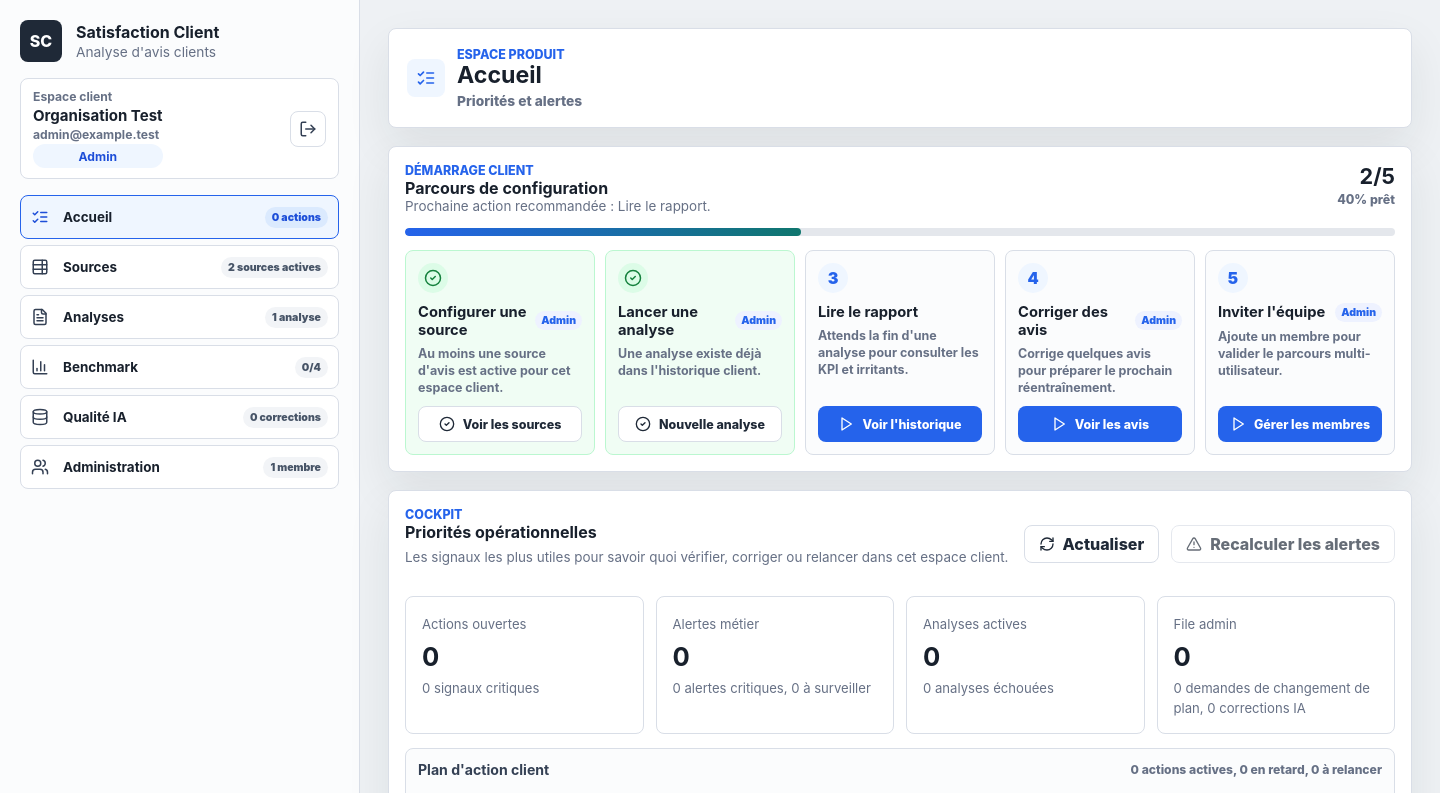
Test case: App authentication and permissions › clarifies an empty Trustpilot run without presenting it as failed
Expected: the text "admin@example.test" is shown, [33, 127, 163, 142]
Click the button "Analyses 1 analyse".
click(94, 317)  # box [20, 295, 339, 339]
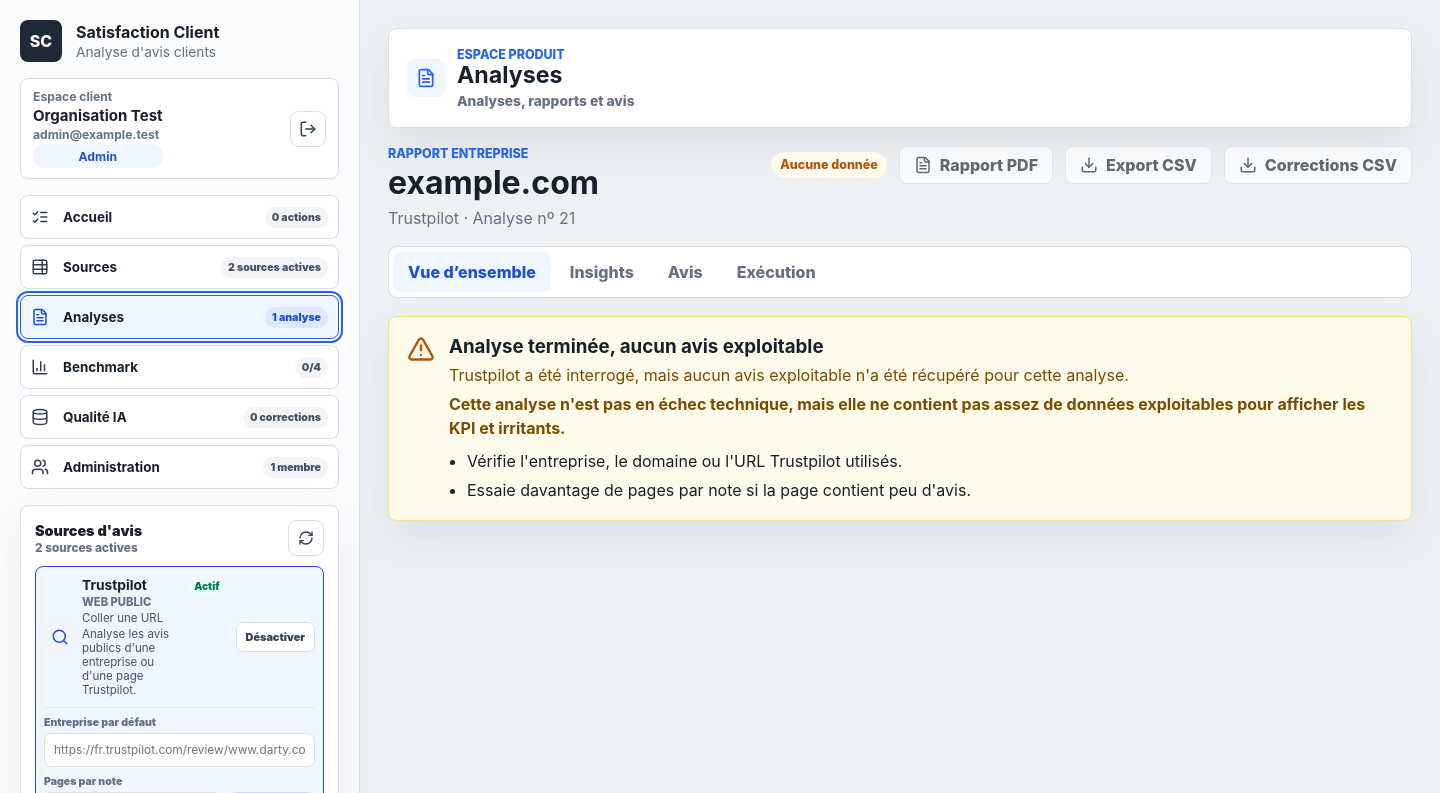
Expected: the heading "Analyse terminée, aucun avis exploitable" is shown, [449, 335, 824, 358]
Expected: the text "Trustpilot a été interrogé, mais aucun avis exploitable n'a été récupéré pour cette analyse." is shown, [449, 365, 1129, 385]
Expected: the text "Cette analyse n'est pas en échec technique, mais elle ne contient pas assez de données exploitables pour afficher les KP" is shown, [449, 394, 1365, 438]
Click the tab "Exécution".
click(776, 272)  # box [723, 252, 830, 292]
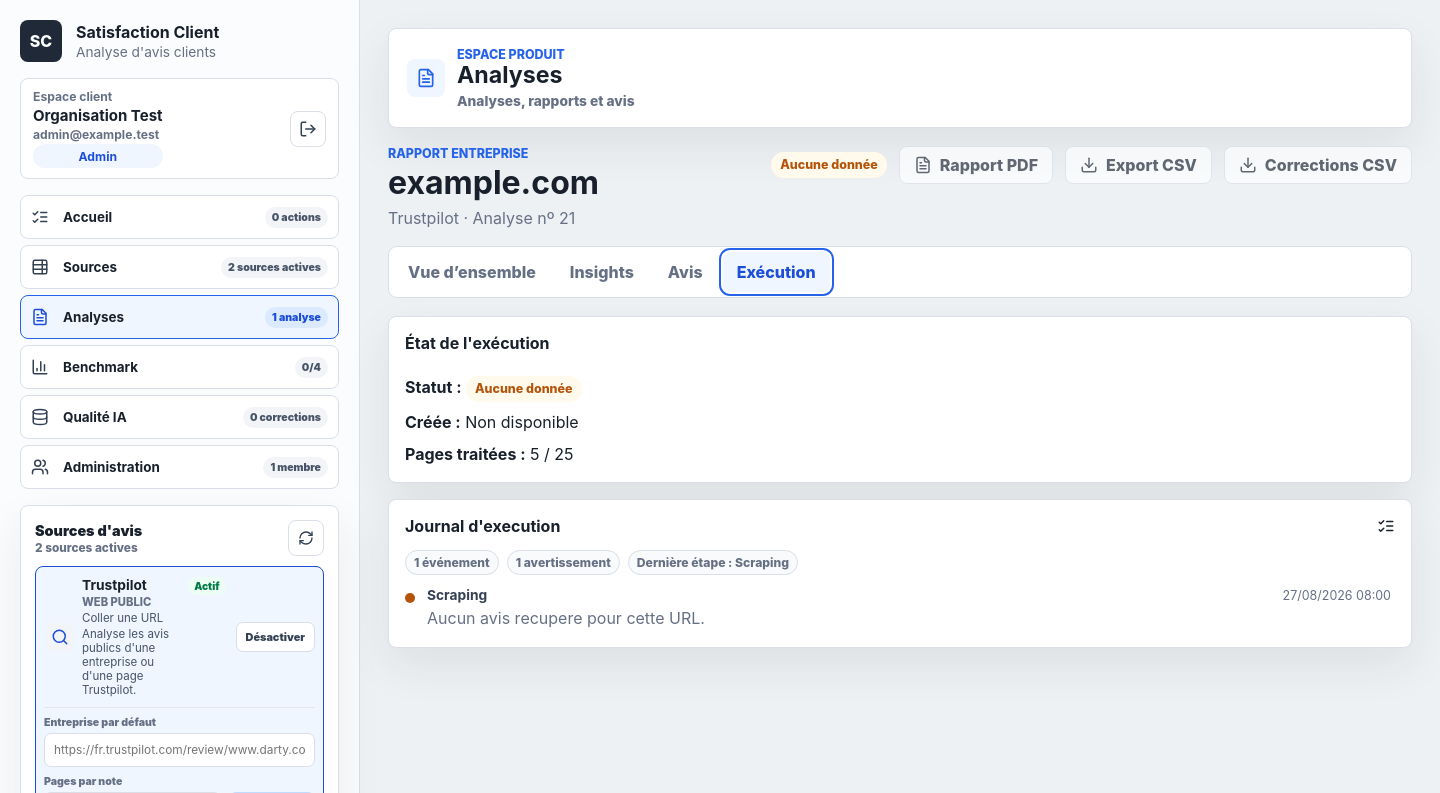
Expected: the text "1 événement" is shown, [405, 550, 499, 575]
Expected: the text "1 avertissement" is shown, [507, 550, 620, 575]
Expected: the text "Dernière étape : Scraping" is shown, [628, 550, 798, 575]
